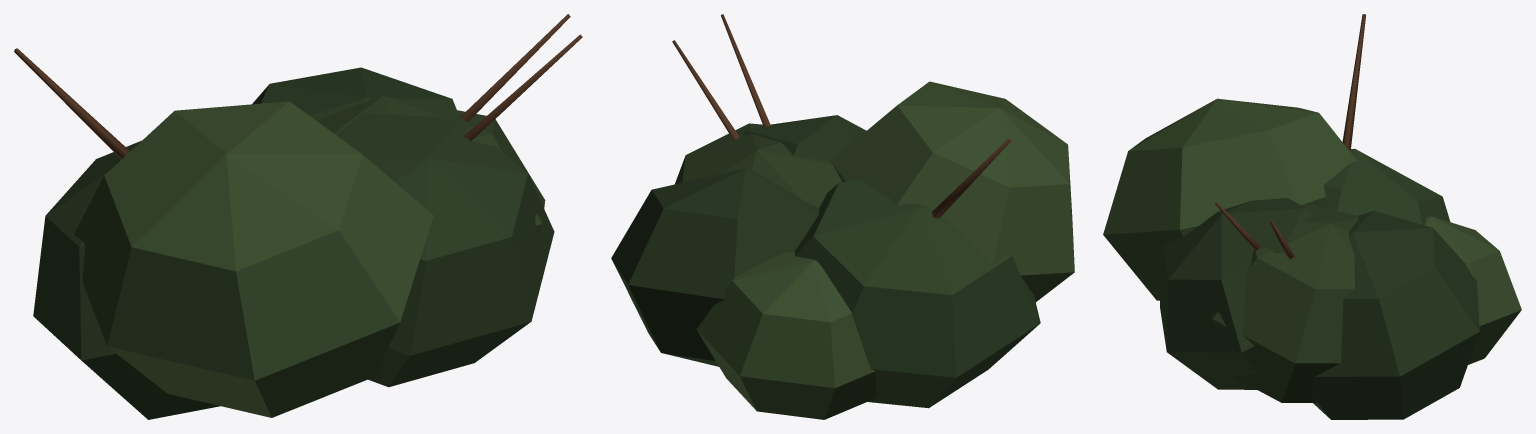
File: kushch.glb
The picture shows the model from 3 angles, left to right: view 1: azimuth 30°, elevation 25°; view 2: azimuth 150°, elevation 25°; view 3: azimuth 270°, elevation 25°; orthographic projection. The views are drawn at different scales.
Visible parts, largest first — view 1: kushch; view 2: kushch; view 3: kushch.
Part boxes in pixels (x1,y1,x2,y2): kushch: [14, 14, 582, 419]; kushch: [611, 14, 1074, 419]; kushch: [1103, 14, 1521, 419].
Bounding box in the file's own units: 1.38 × 0.9742 × 1.36.
